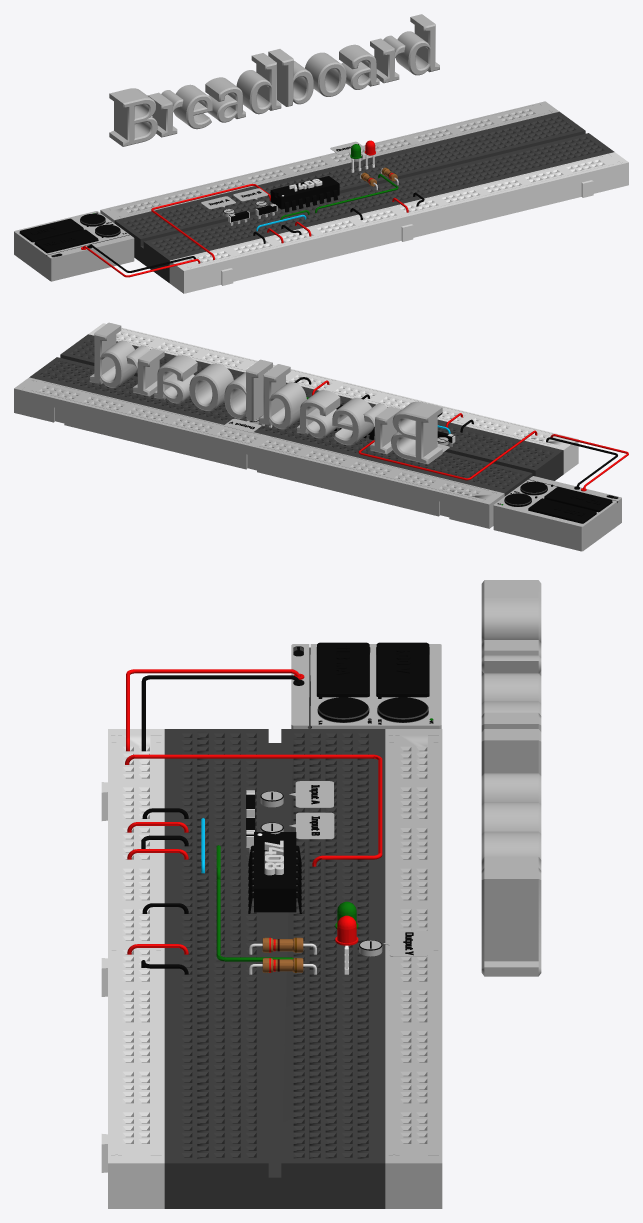
File: Breadboard.fbx
3 views of the same model, one above another, from view 1: azimuth 30°, elevation 25°; view 2: azimuth 150°, elevation 25°; view 3: azimuth 270°, elevation 25° (orthographic). The views are drawn at different scales.
Visible parts, largest first — view 1: Main_Board, Mirror4_instance, Breadboard, Mirror4, Face, Cylinder_1, IC, Red_Wire_2_3; view 2: Mirror4, Breadboard, Main_Board, Mirror4_instance, Face, Cylinder_1, Red_Wire_2_3, Red_Wire, Red_Wire_1; view 3: Main_Board, Mirror4_instance, Mirror4, Breadboard, Cylinder_1, Face, IC, Red_Wire_2_3, Red_Wire, Red_Wire_1, Extrude_7, Extrude_9 (+1 smaller).
Part boxes in pixels (left/top/right/bottom): Main_Board: left=114, top=111, right=614, bottom=282; Mirror4_instance: left=169, top=152, right=628, bottom=293; Breadboard: left=109, top=14, right=439, bottom=146; Mirror4: left=100, top=101, right=558, bottom=223; Face: left=14, top=211, right=134, bottom=281; Cylinder_1: left=19, top=213, right=120, bottom=253; IC: left=270, top=176, right=339, bottom=212; Red_Wire_2_3: left=151, top=183, right=270, bottom=260; Mirror4: left=14, top=377, right=504, bottom=528; Breadboard: left=89, top=322, right=442, bottom=464; Main_Board: left=29, top=334, right=563, bottom=496; Mirror4_instance: left=88, top=323, right=578, bottom=473; Face: left=493, top=476, right=621, bottom=551; Cylinder_1: left=504, top=481, right=612, bottom=523; Red_Wire_2_3: left=358, top=430, right=537, bottom=480; Red_Wire: left=550, top=434, right=628, bottom=489; Red_Wire_1: left=546, top=437, right=617, bottom=487; Main_Board: left=164, top=729, right=385, bottom=1208; Mirror4_instance: left=101, top=729, right=164, bottom=1208; Mirror4: left=385, top=729, right=442, bottom=1208; Breadboard: left=481, top=580, right=541, bottom=976; Cylinder_1: left=317, top=642, right=429, bottom=722; Face: left=291, top=644, right=441, bottom=728; IC: left=248, top=832, right=301, bottom=913; Red_Wire_2_3: left=125, top=754, right=382, bottom=866; Red_Wire: left=126, top=669, right=300, bottom=751; Red_Wire_1: left=141, top=675, right=300, bottom=751; Extrude_7: left=289, top=812, right=334, bottom=839; Extrude_9: left=289, top=781, right=333, bottom=807.
Bounding box in the file's own units: 454 × 95.18 × 162.
